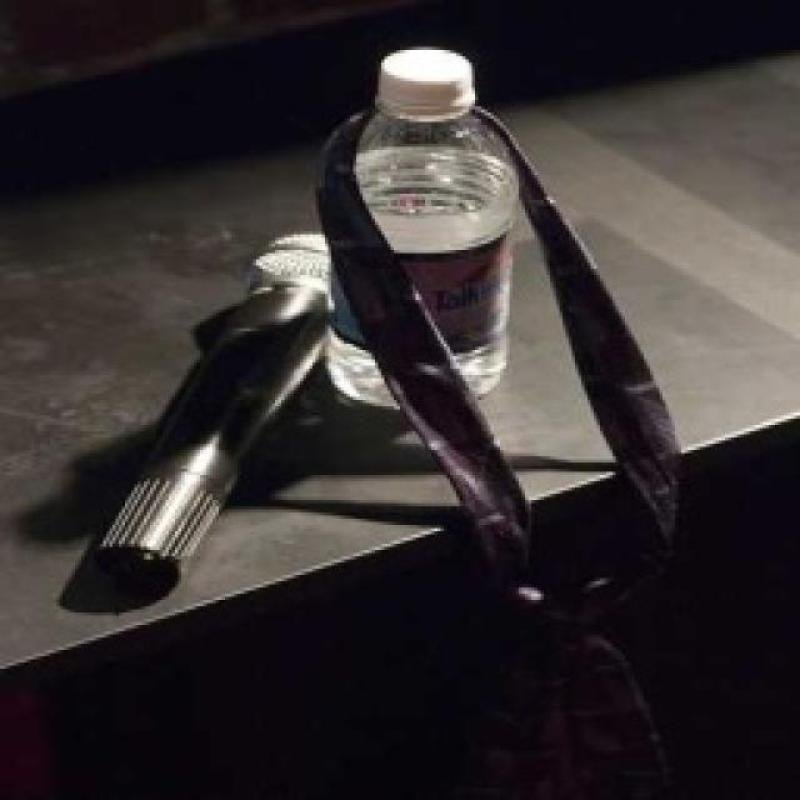botella: (336, 48, 512, 417)
